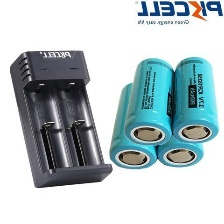battery: (107, 78, 162, 171), (121, 56, 177, 147), (154, 80, 206, 169), (170, 55, 221, 144)
